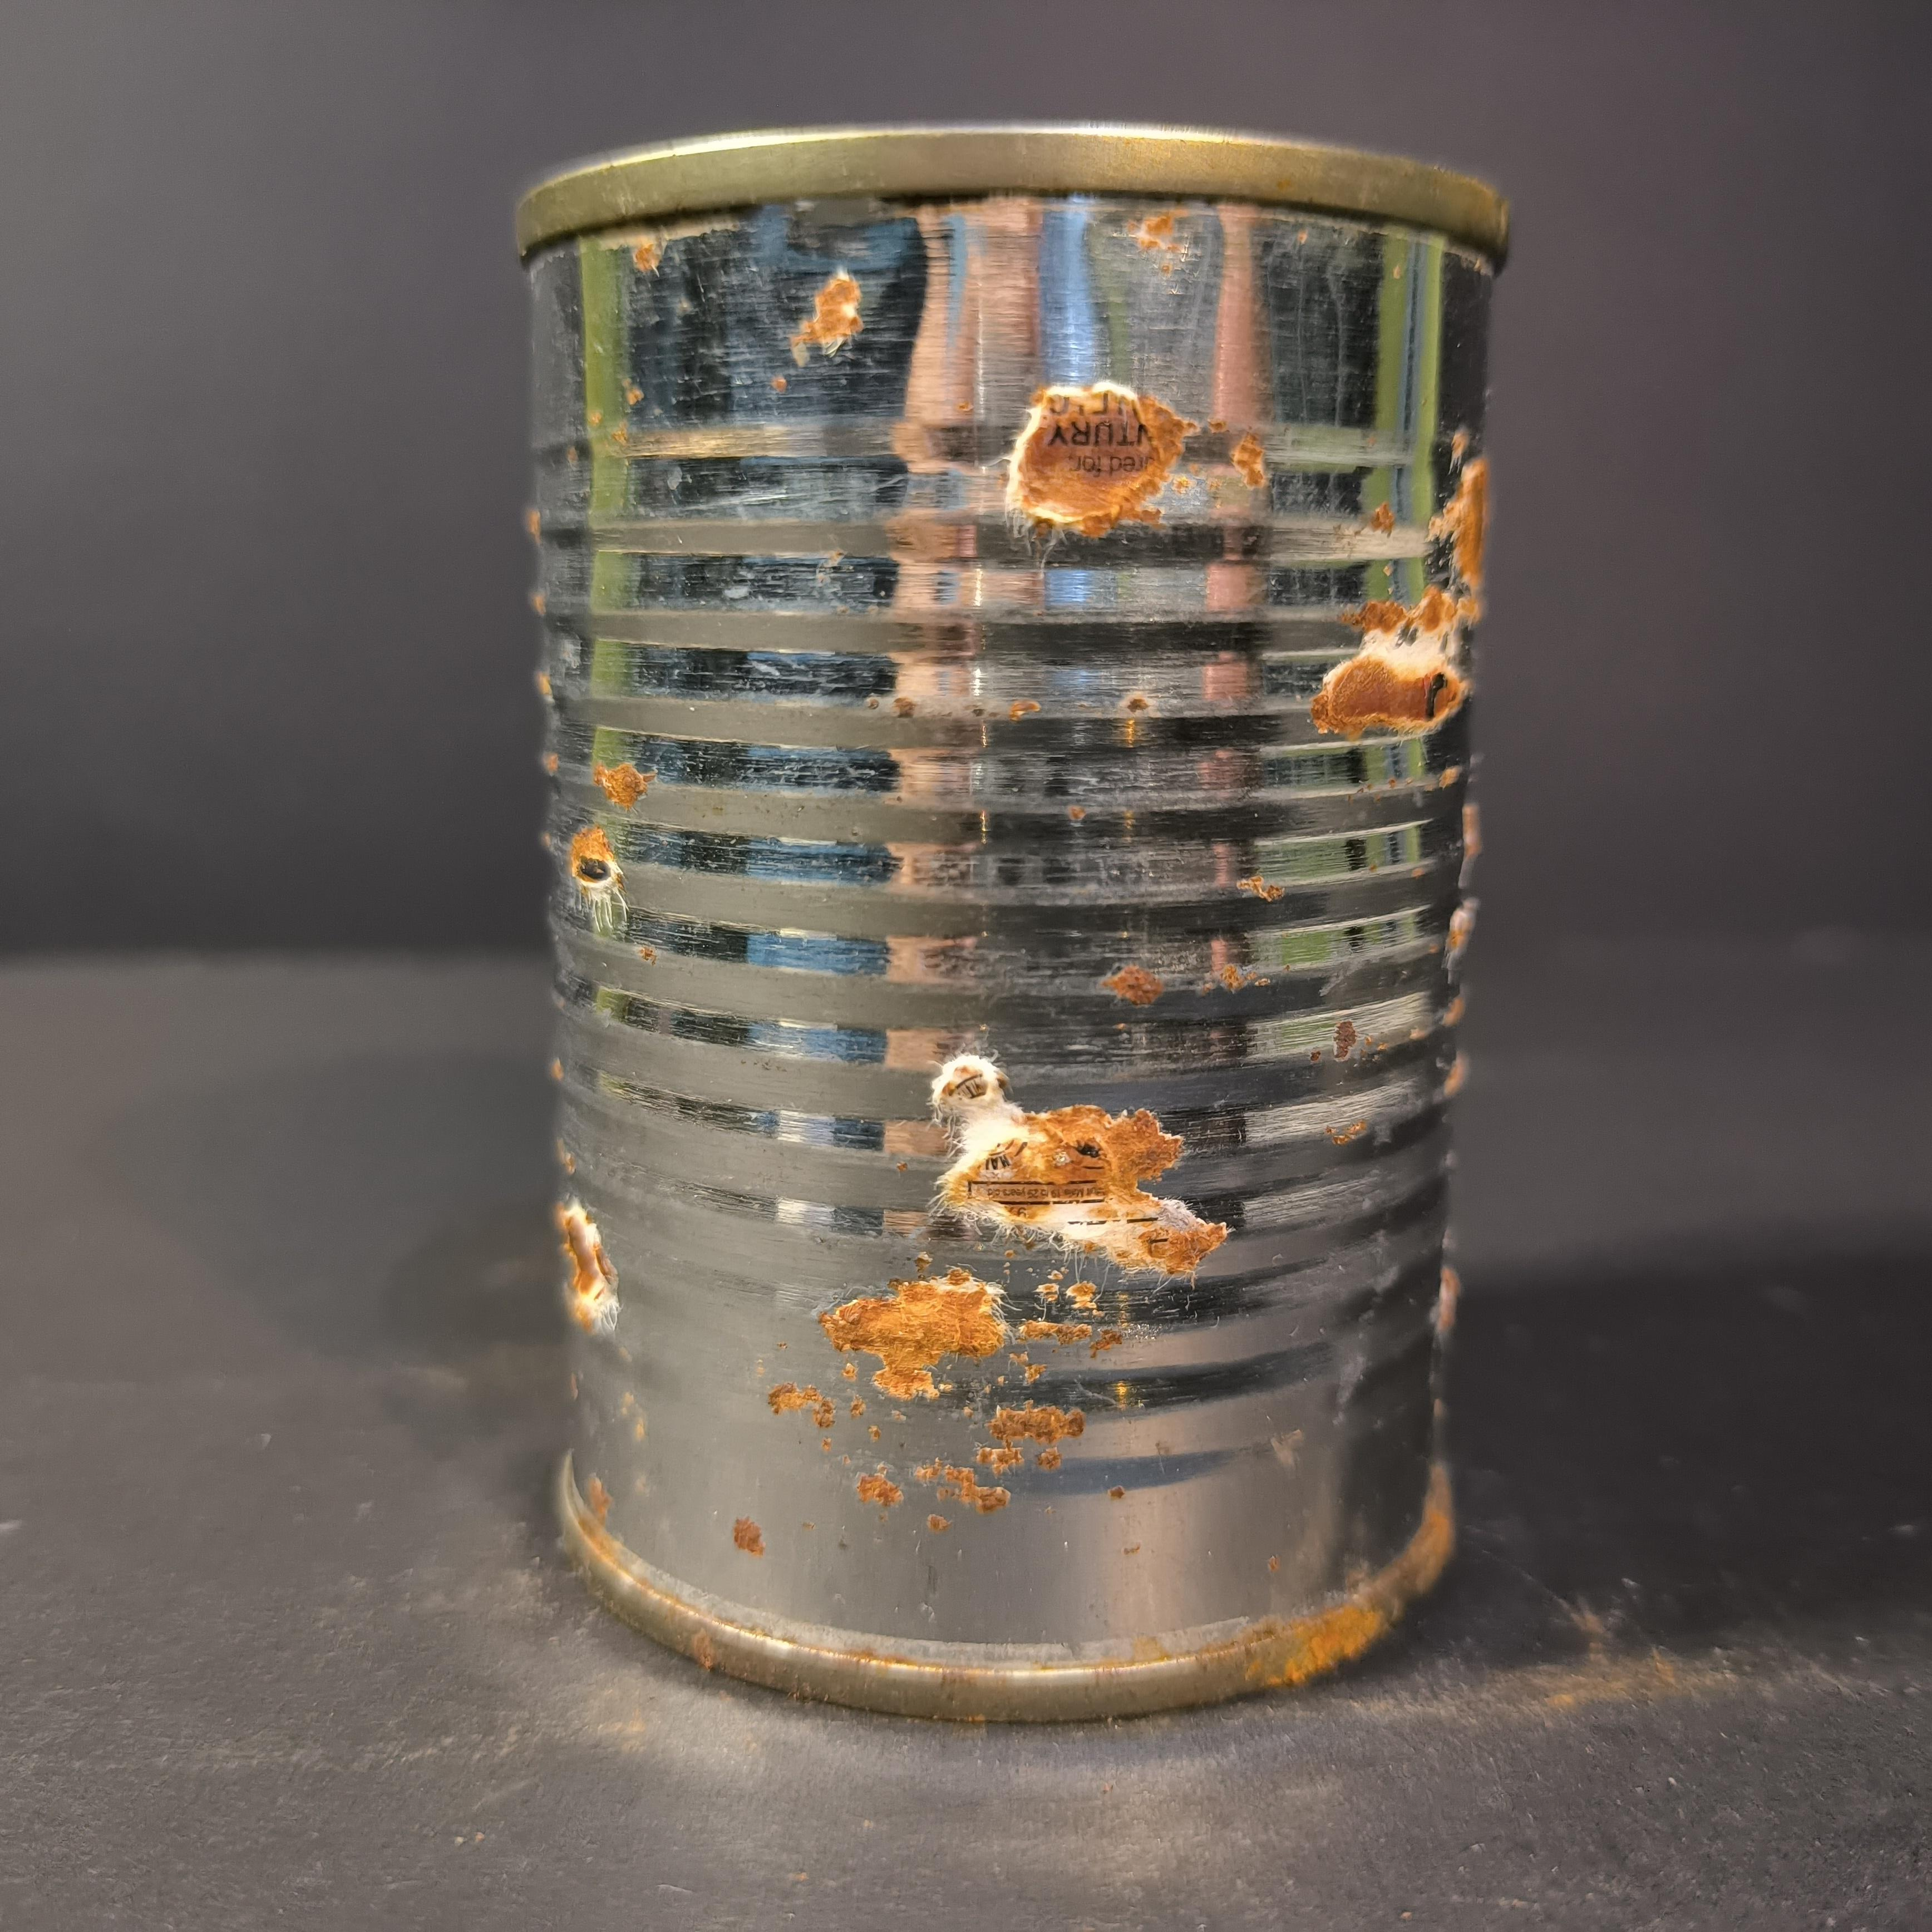Rusted: (501, 97, 1530, 1736)
